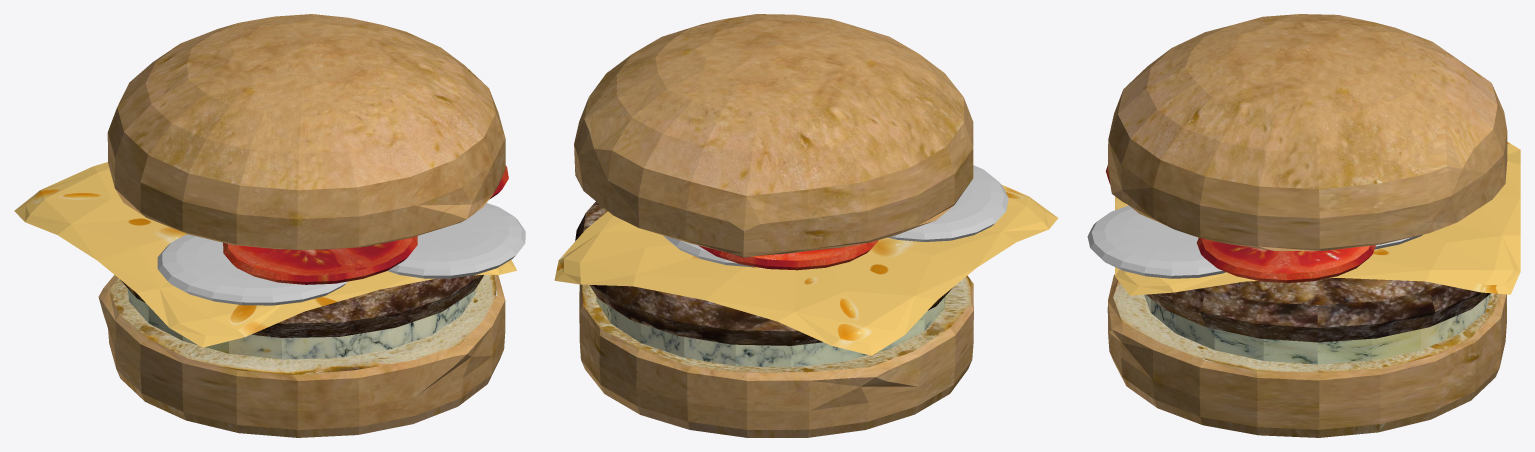
File: burger.dae
3 views of the same model, side by side, from view 1: azimuth 30°, elevation 25°; view 2: azimuth 150°, elevation 25°; view 3: azimuth 270°, elevation 25° (orthographic).
Parts seen in each view (by area): view 1: mainNode; view 2: mainNode; view 3: mainNode.
Boxes of the visible parts, bbox=[...] form: mainNode: bbox=[14, 14, 525, 437]; mainNode: bbox=[554, 14, 1058, 437]; mainNode: bbox=[1087, 14, 1520, 437].
Bounding box in the file's own units: 2.02 × 1.96 × 1.58.
